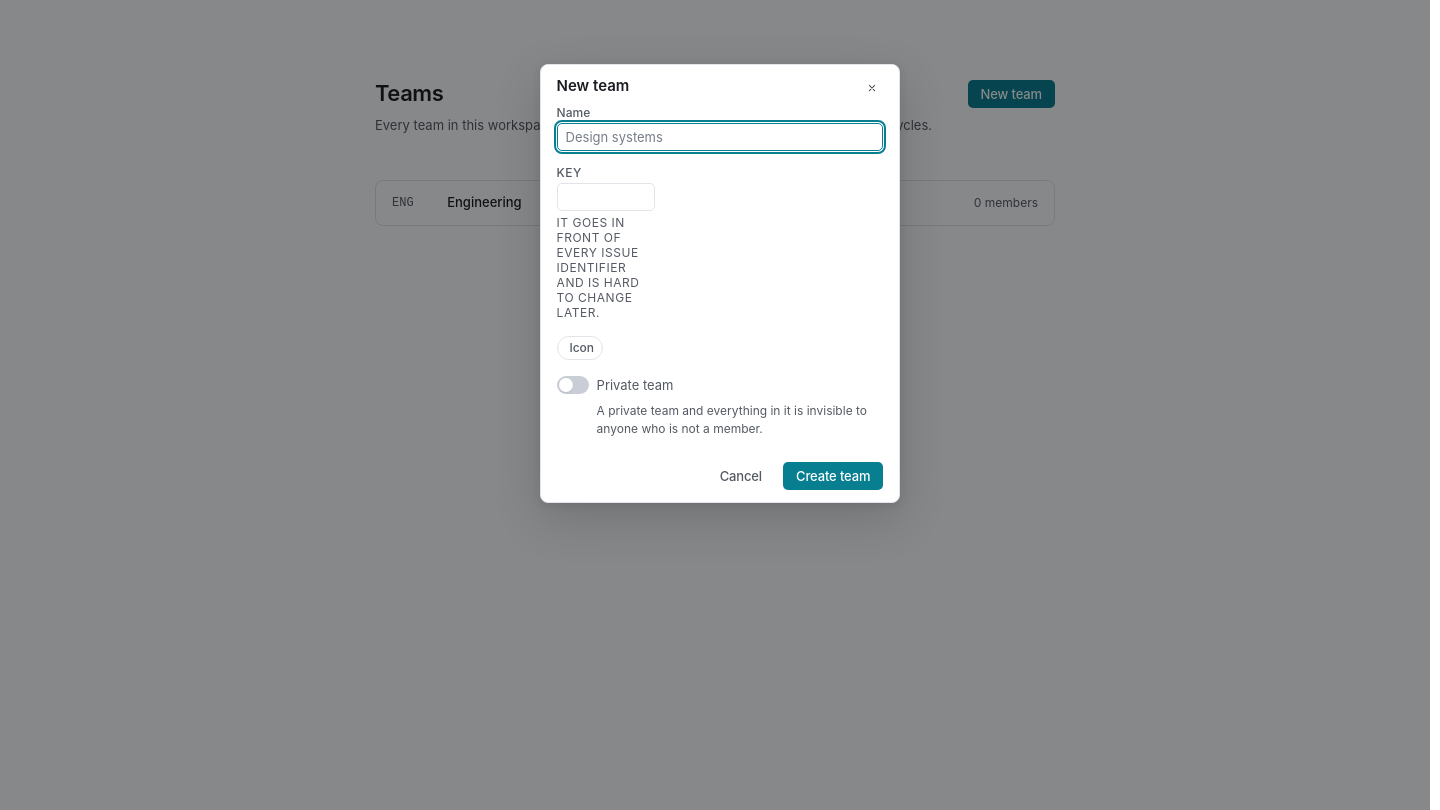
TeamsSettings › refuses a key another team already holds, on the field
The width and height of the screenshot is (1440, 810).
In the field labelled "Name": (720, 137) [566,124,874,150], type "Engineering Two"
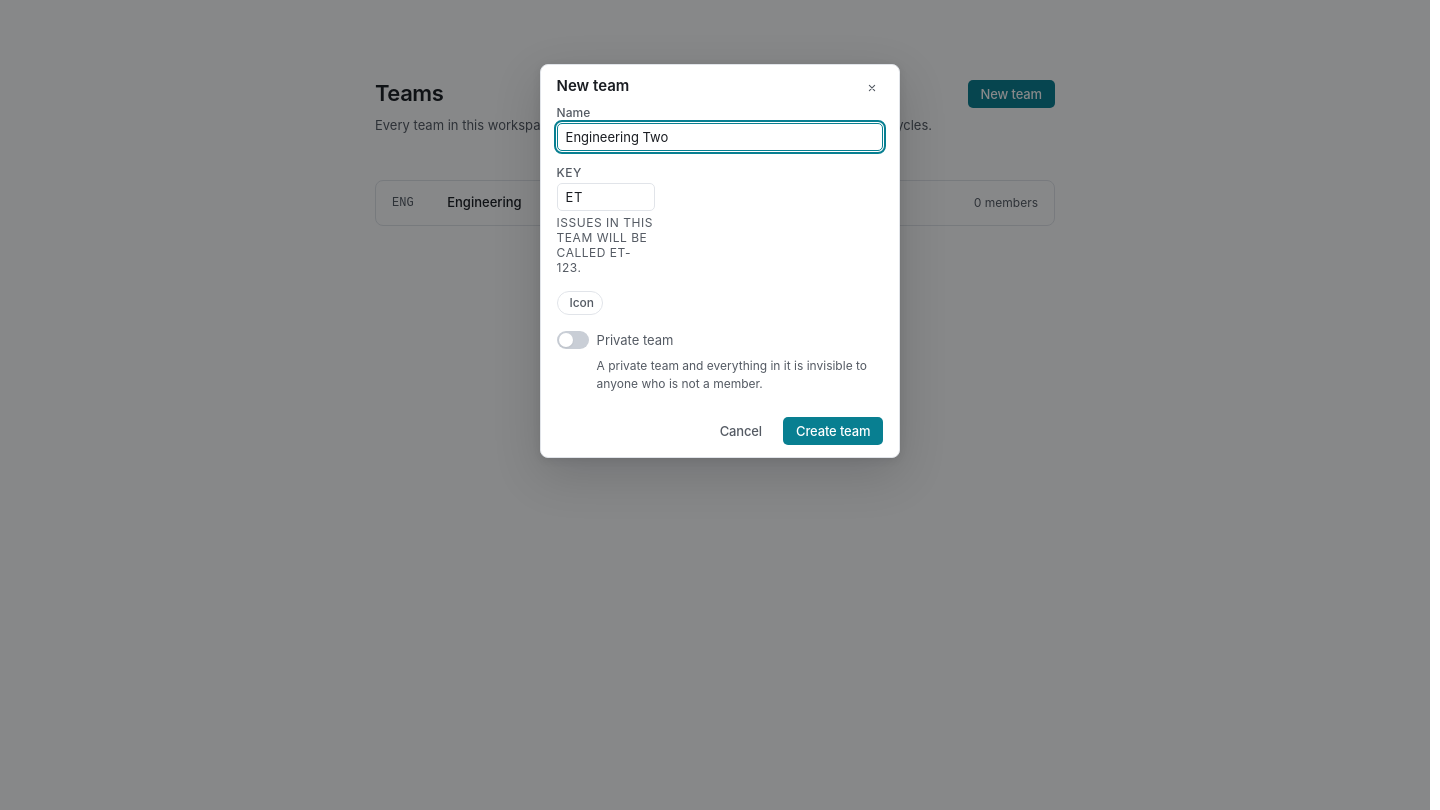
Replace the text in the field labelled "Key" with "ENG": (606, 197) [566,184,646,210]
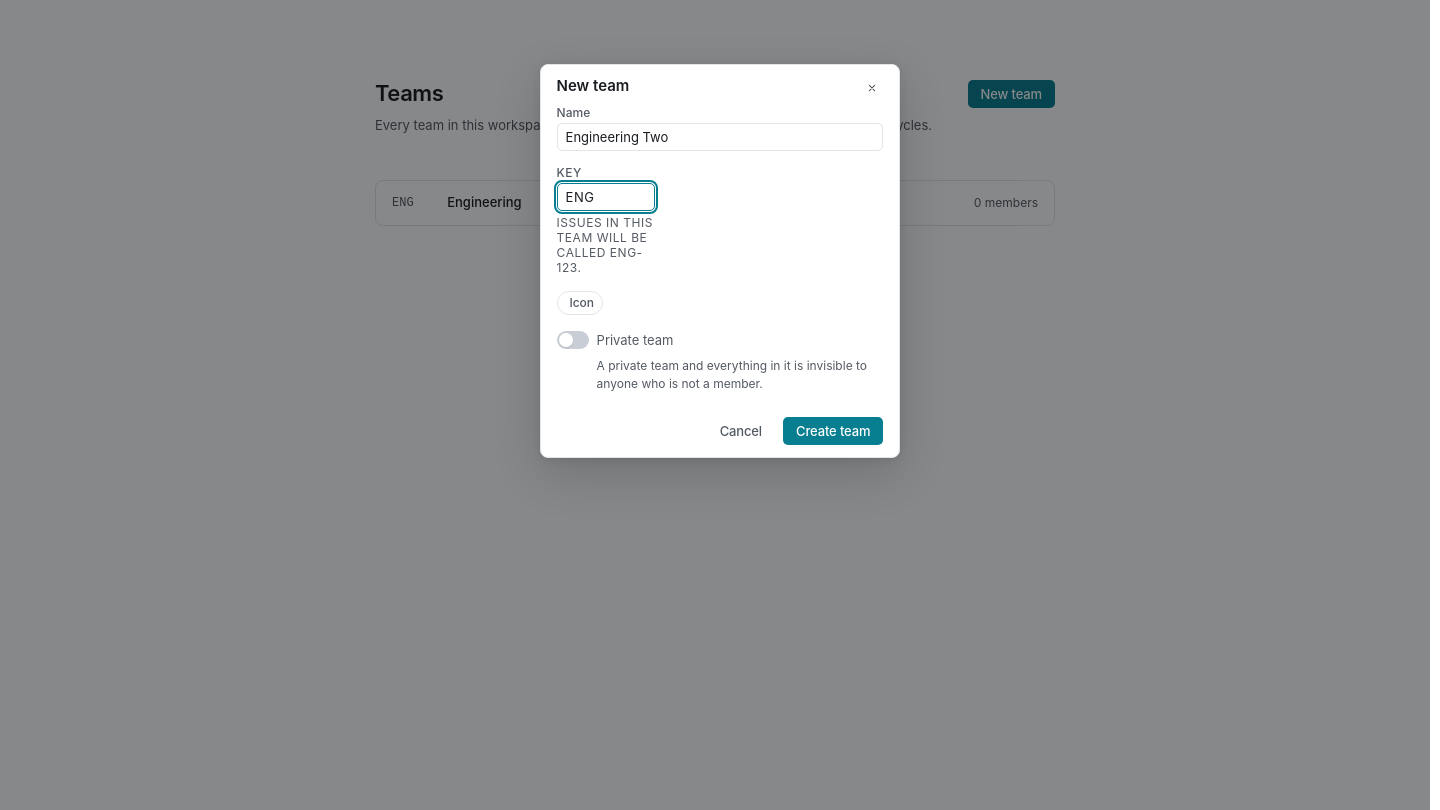
Click the button "Create team": (833, 431) [783,417,883,445]
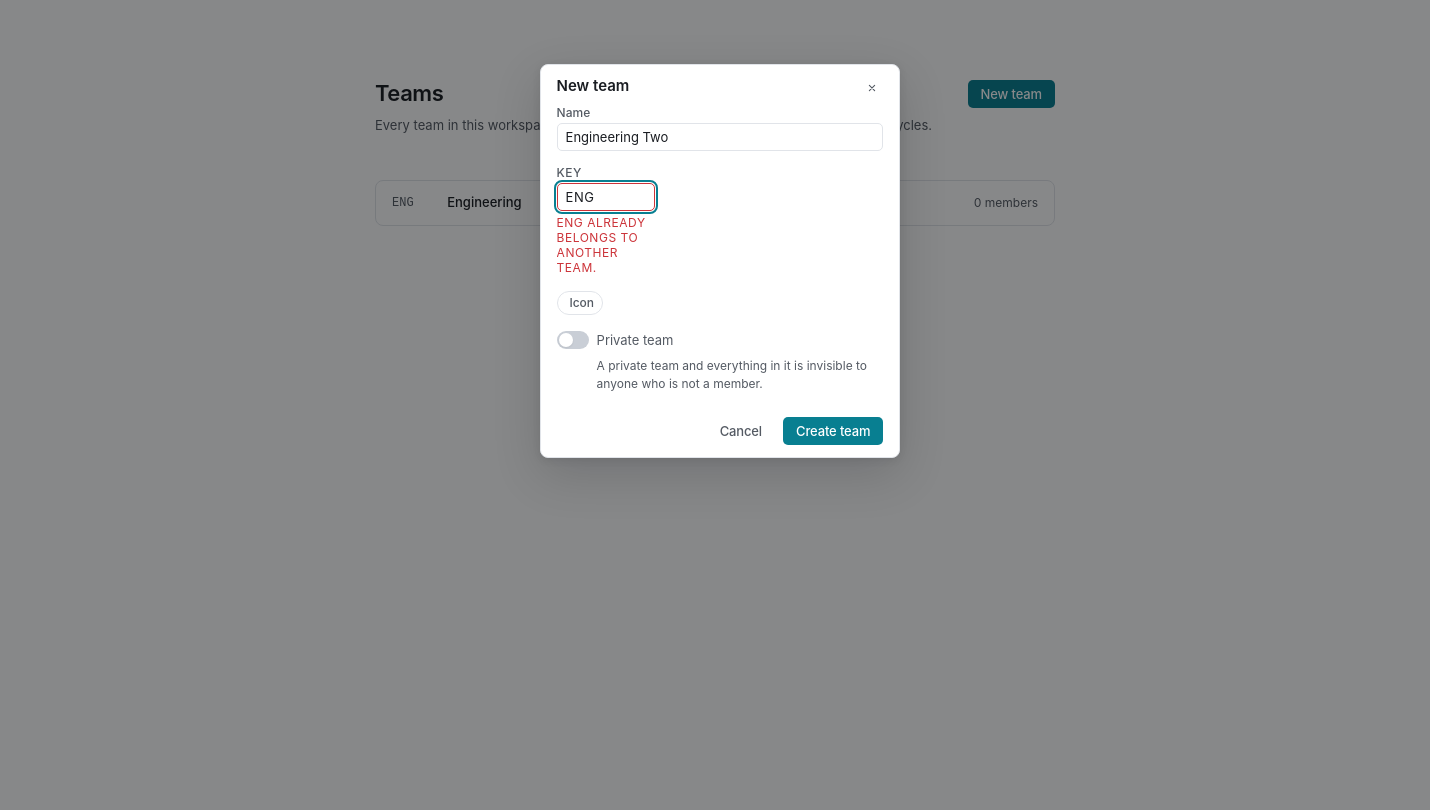
Now the text "ENG already belongs to another team." is shown, box [557,215,655,275]
